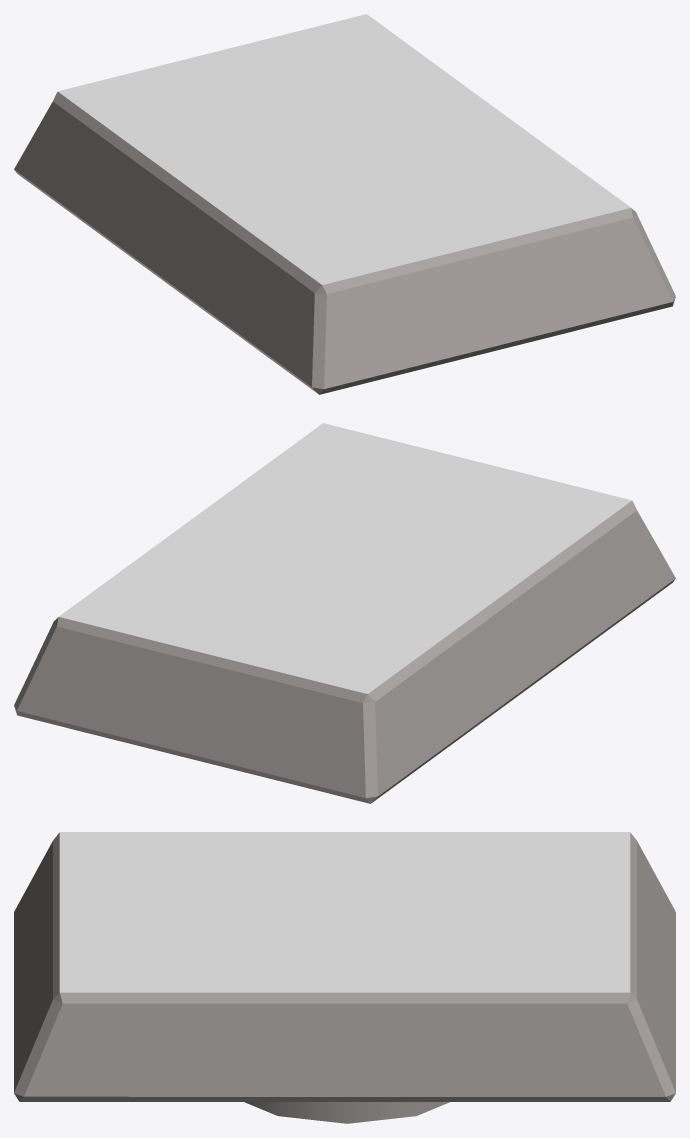
File: Slider_Image_V3.fbx
The picture shows the model from 3 angles, top to bottom: view 1: azimuth 30°, elevation 25°; view 2: azimuth 150°, elevation 25°; view 3: azimuth 270°, elevation 25°; orthographic projection. The views are drawn at different scales.
Parts seen in each view (by area): view 1: Slider_Image_V3; view 2: Slider_Image_V3; view 3: Slider_Image_V3.
Part boxes in pixels (bbox=[...]): Slider_Image_V3: bbox=[14, 14, 675, 394]; Slider_Image_V3: bbox=[14, 423, 675, 803]; Slider_Image_V3: bbox=[14, 832, 675, 1123].
Bounding box in the file's own units: 0.0497 × 0.0186 × 0.0727.
